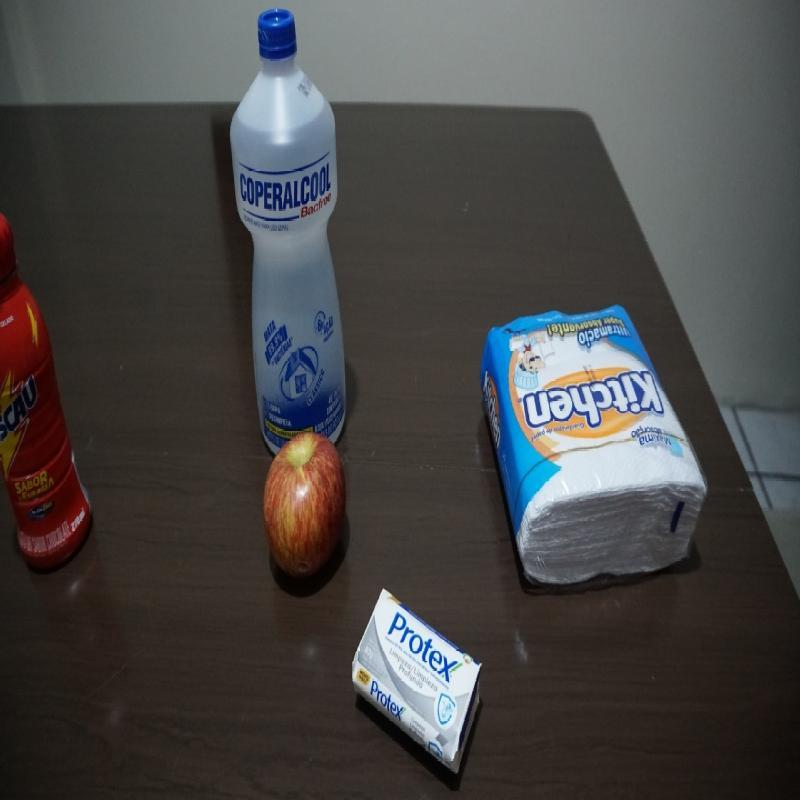Alcohol Bottle: (224, 1, 354, 446)
Apple: (254, 425, 354, 575)
Chocolate Milk: (0, 208, 98, 550)
Napkin: (486, 283, 705, 570)
Soap: (352, 570, 479, 764)
